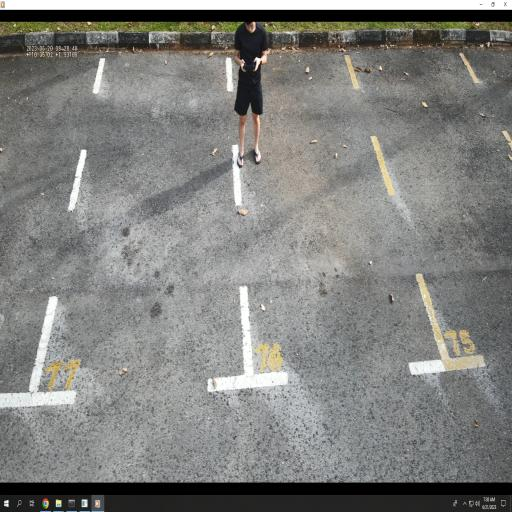Empty: (23, 45, 259, 417), (223, 44, 453, 392)
